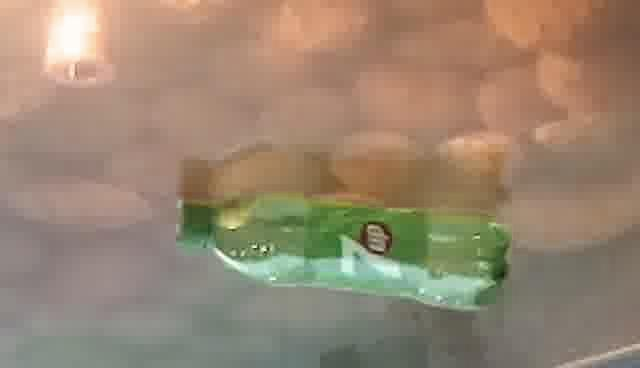Plastic: (172, 185, 512, 318)
